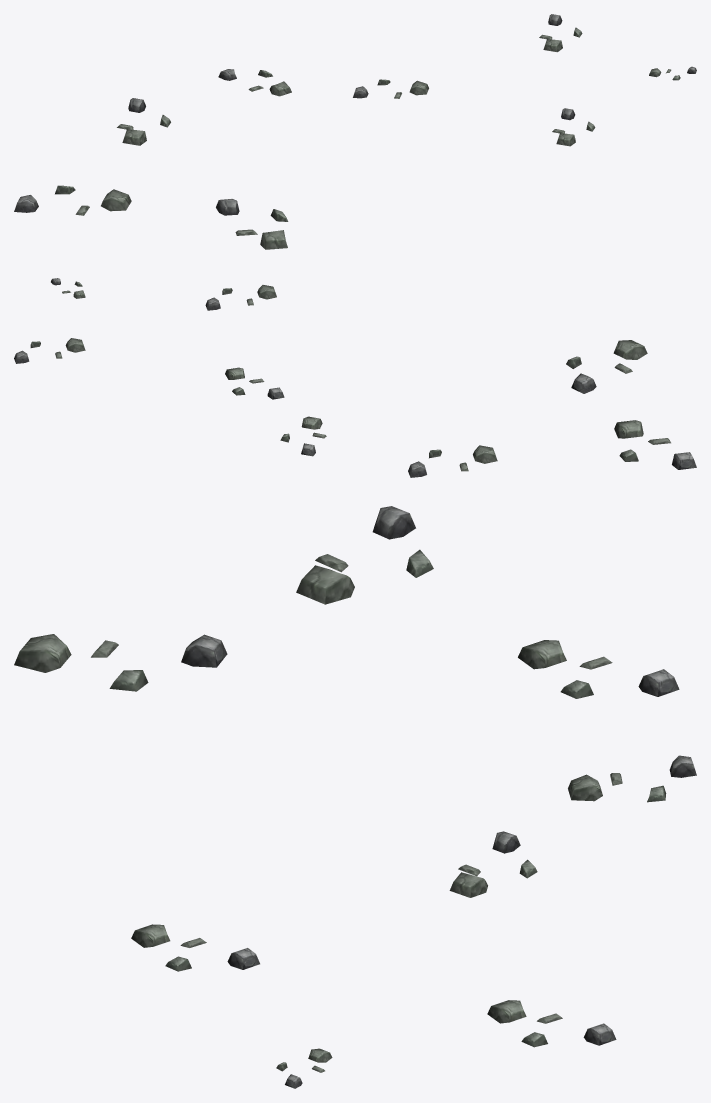
Rendered from Area_04_4.fbx.
3 views of the same model, one above another, from view 1: azimuth 30°, elevation 25°; view 2: azimuth 150°, elevation 25°; view 3: azimuth 270°, elevation 25° (orthographic). The views are drawn at different scales.
Visible parts, largest first — view 1: Area_04_4; view 2: Area_04_4; view 3: Area_04_4.
Boxes of the visible parts, x1=… form: Area_04_4: x1=14, y1=14, x2=696, y2=249; Area_04_4: x1=14, y1=278, x2=696, y2=477; Area_04_4: x1=14, y1=506, x2=696, y2=1088.
Bounding box in the file's own units: 3744 × 64.02 × 1889.
